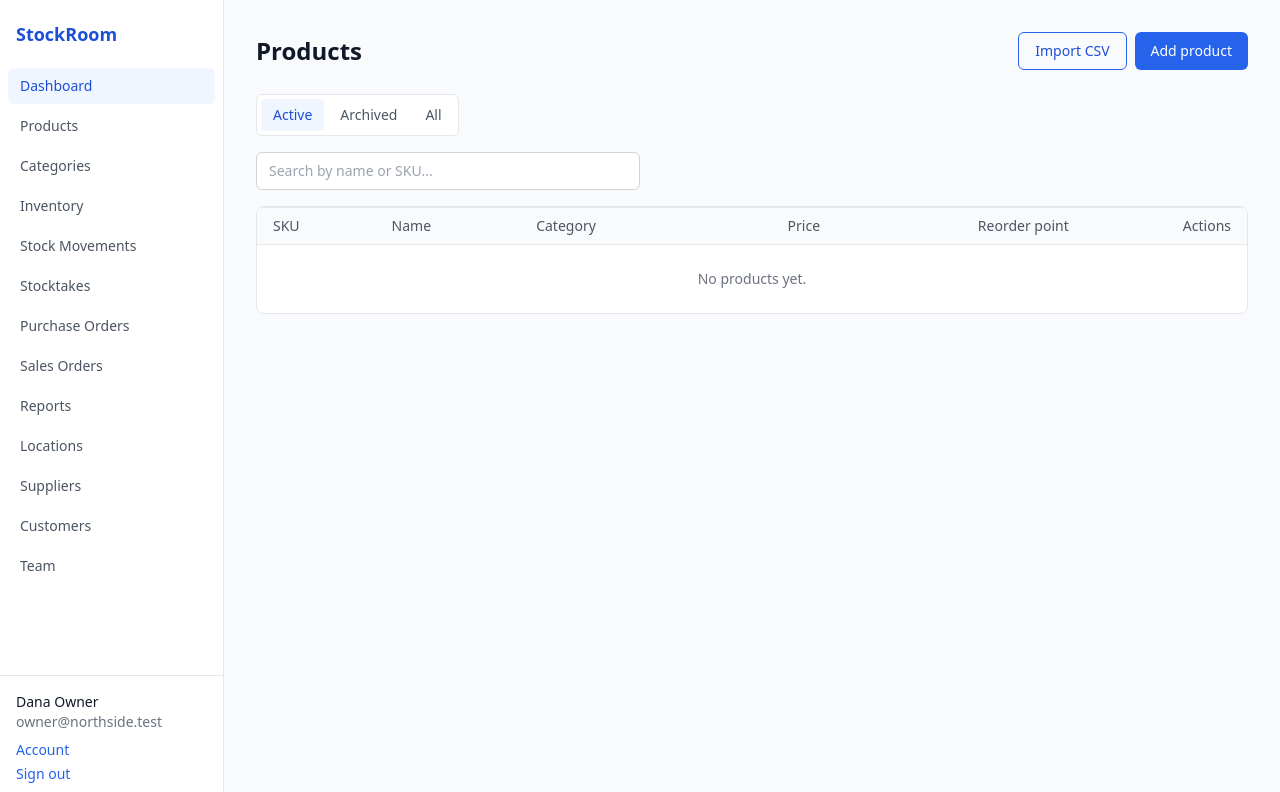
ProductsPage create › adds a category inline from the create form without leaving it
This screenshot has width=1280, height=792.
Check: the text "No products yet." is shown, box x1=257 y1=244 x2=1247 y2=313
Click the button "Add product" at [1191, 51], box x1=1135 y1=32 x2=1248 y2=70
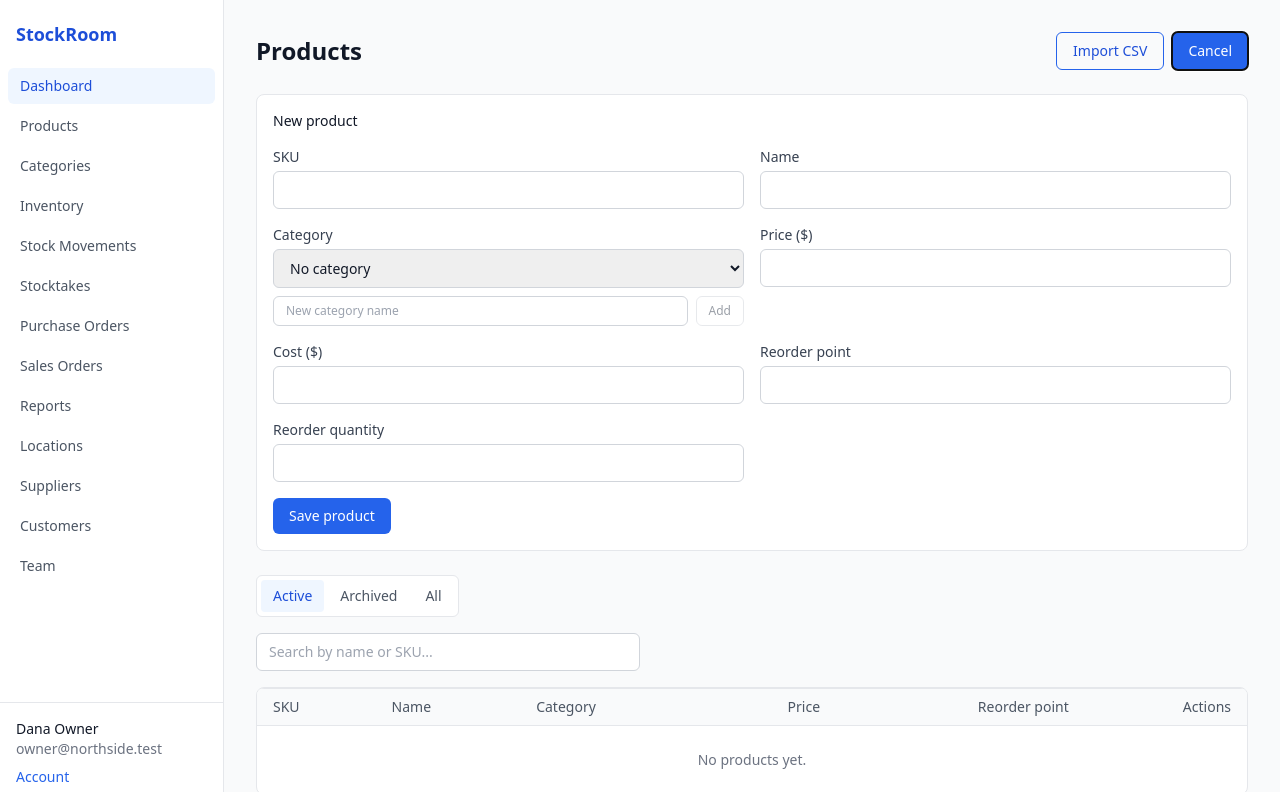
Type "Snacks" into the field with placeholder "New category name" at [480, 311], box x1=273 y1=296 x2=688 y2=326
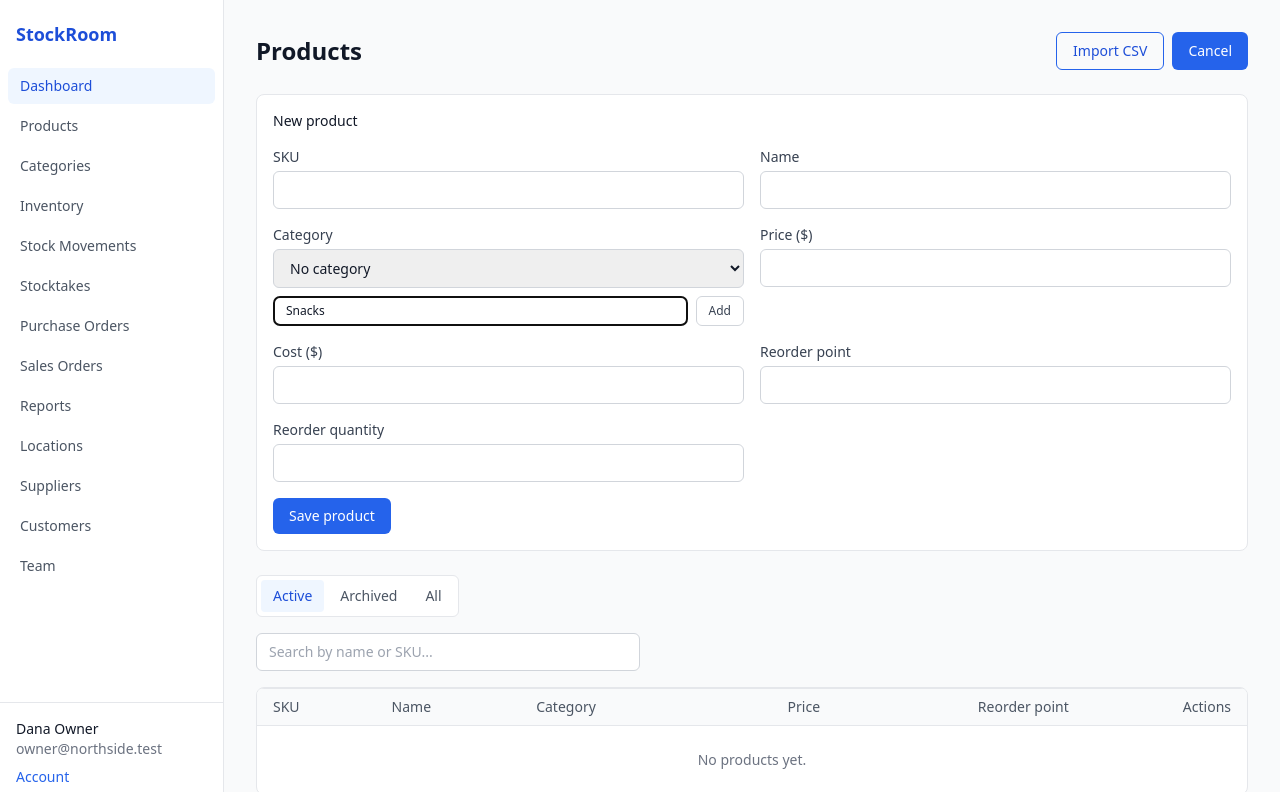
Click the button "Add" at [720, 311], box x1=696 y1=296 x2=744 y2=326
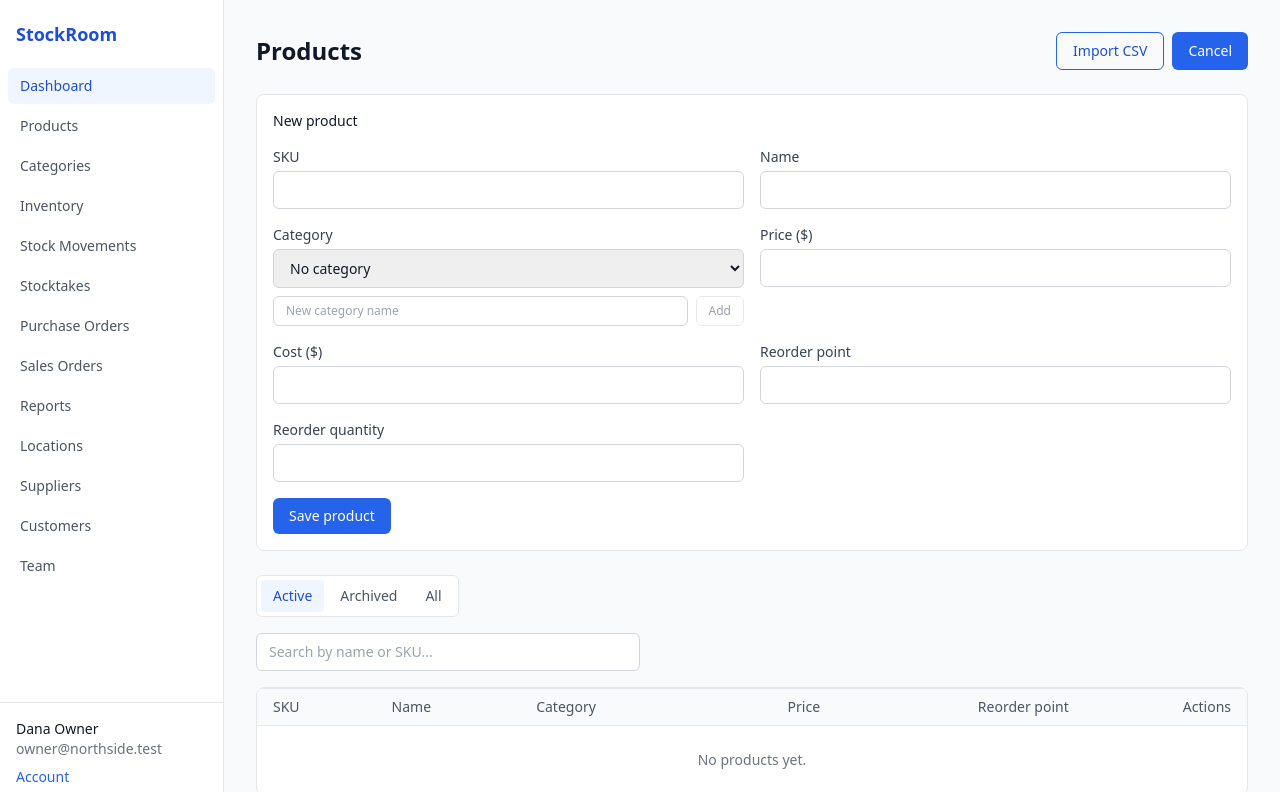
Check: the field labelled "SKU" is shown, box x1=273 y1=171 x2=744 y2=209
Check: the field with placeholder "New category name" is empty, box x1=273 y1=296 x2=688 y2=326
